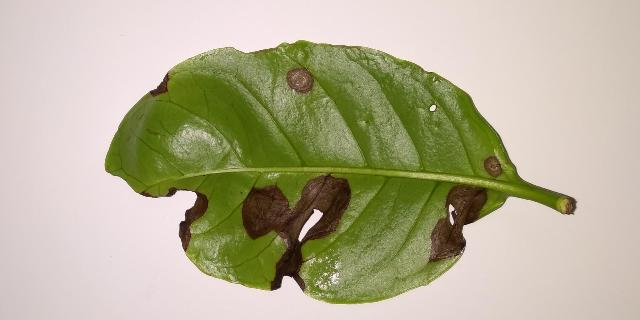rust: (242, 173, 351, 292), (428, 184, 488, 263), (139, 188, 208, 253), (287, 68, 314, 94), (146, 72, 169, 96), (483, 156, 502, 178)
